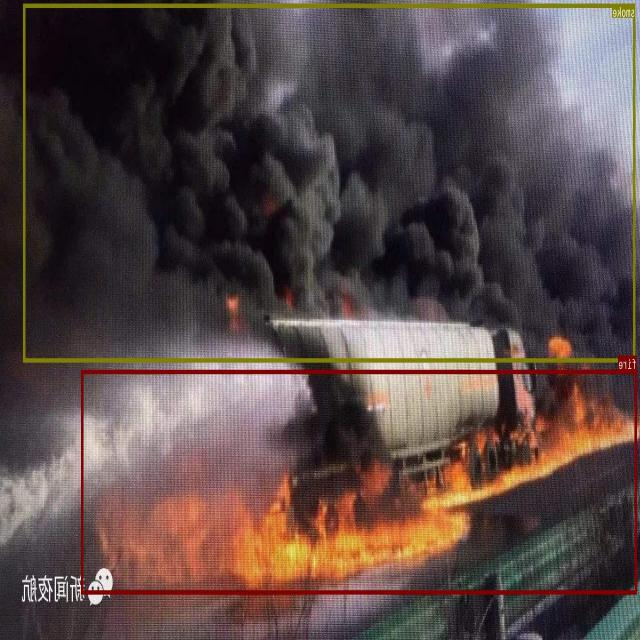fire: (82, 369, 637, 593)
smoke: (24, 3, 636, 361)
